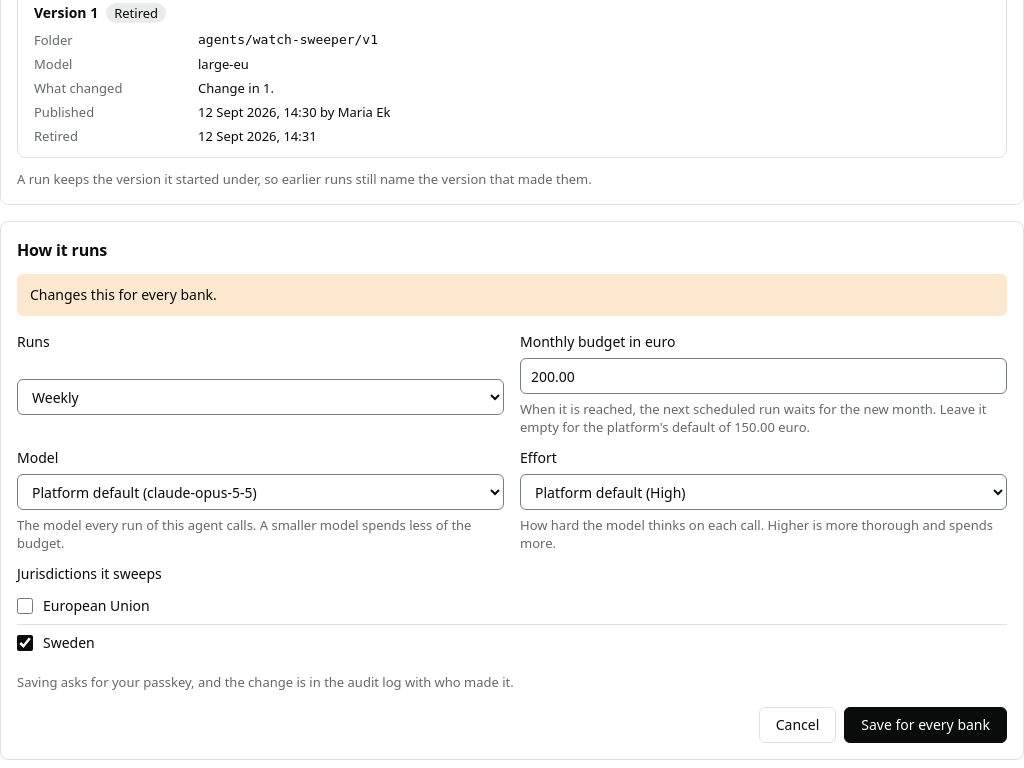
Test case: console agent definition › refuses settings with no jurisdiction or a budget that is not an amount, and sends nothing
(page scrolled)
Expected: the checkbox labelled "Sweden" is checked, [17, 635, 33, 651]
Replace the text in the field labelled "Monthly budget in euro" with "12,5" at (764, 376), box [520, 358, 1007, 394]
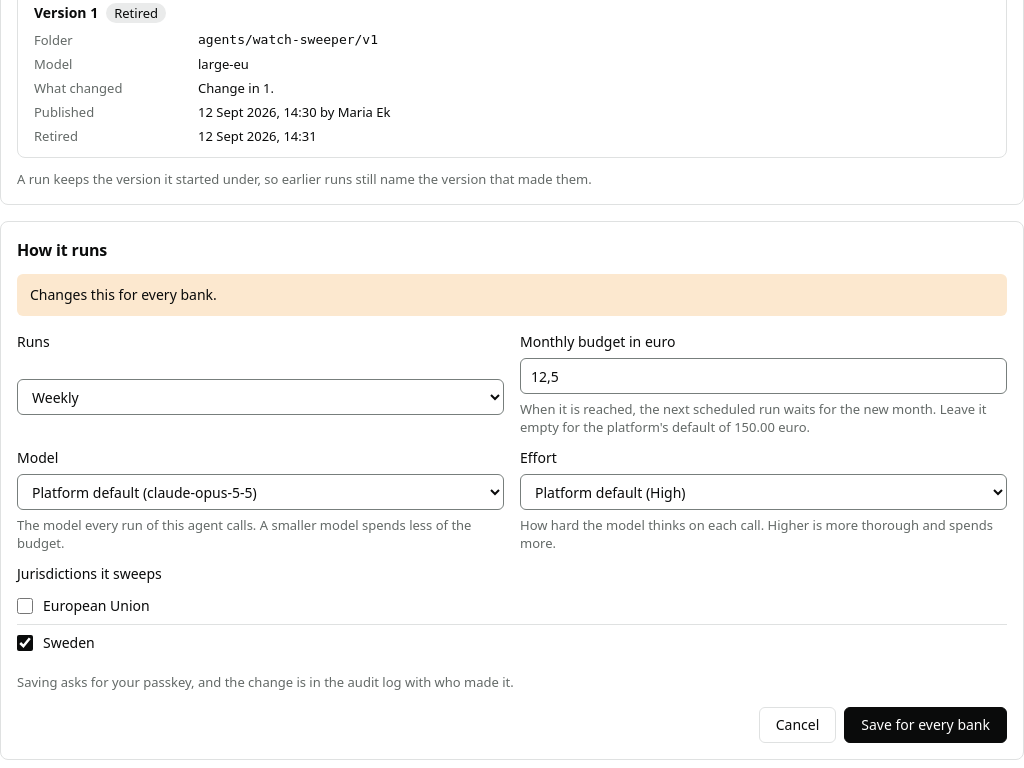
Click the button "Save for every bank".
click(926, 725)  # box [844, 707, 1007, 743]
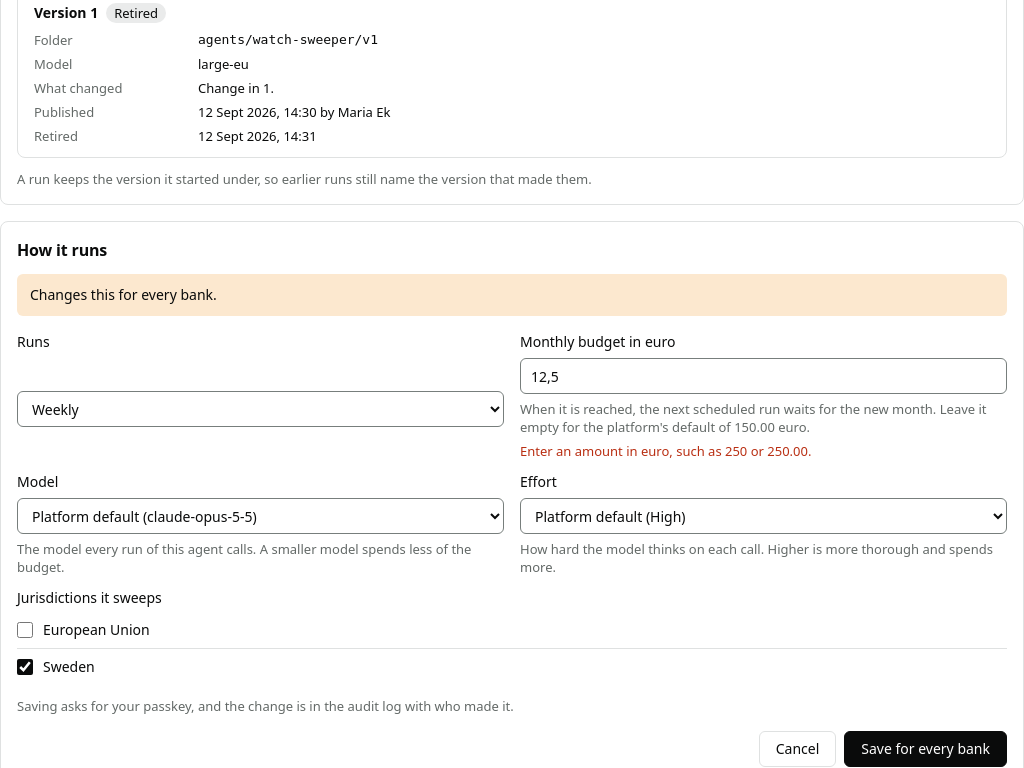
Expected: the text "Enter an amount in euro, such as 250 or 250.00." is shown, [520, 442, 811, 460]
Clear the field labelled "Monthly budget in euro" at (764, 376), box [520, 358, 1007, 394]
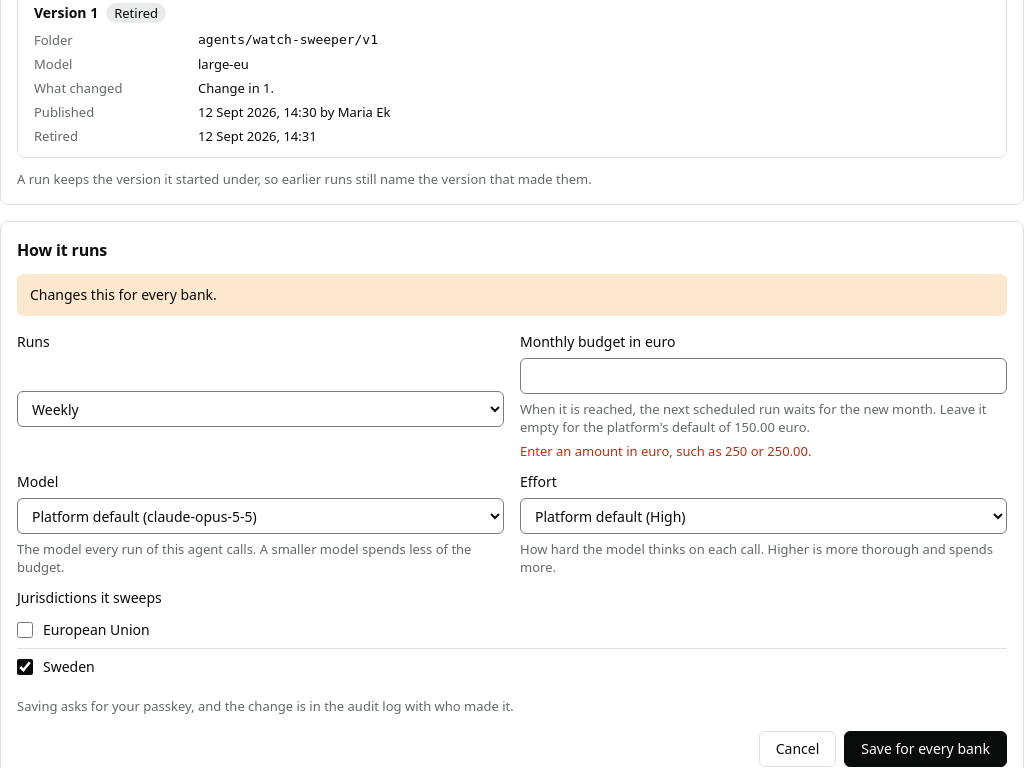
Click the checkbox labelled "Sweden".
click(25, 667)  # box [17, 659, 33, 675]
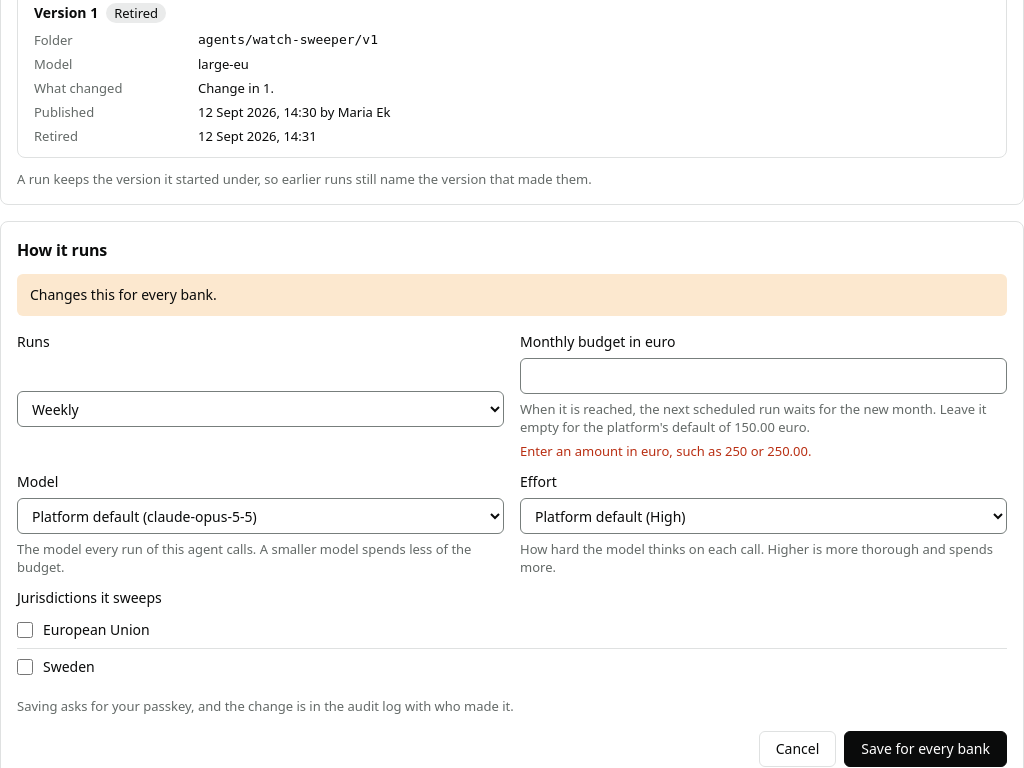
Click the button "Save for every bank".
click(926, 749)  # box [844, 731, 1007, 767]
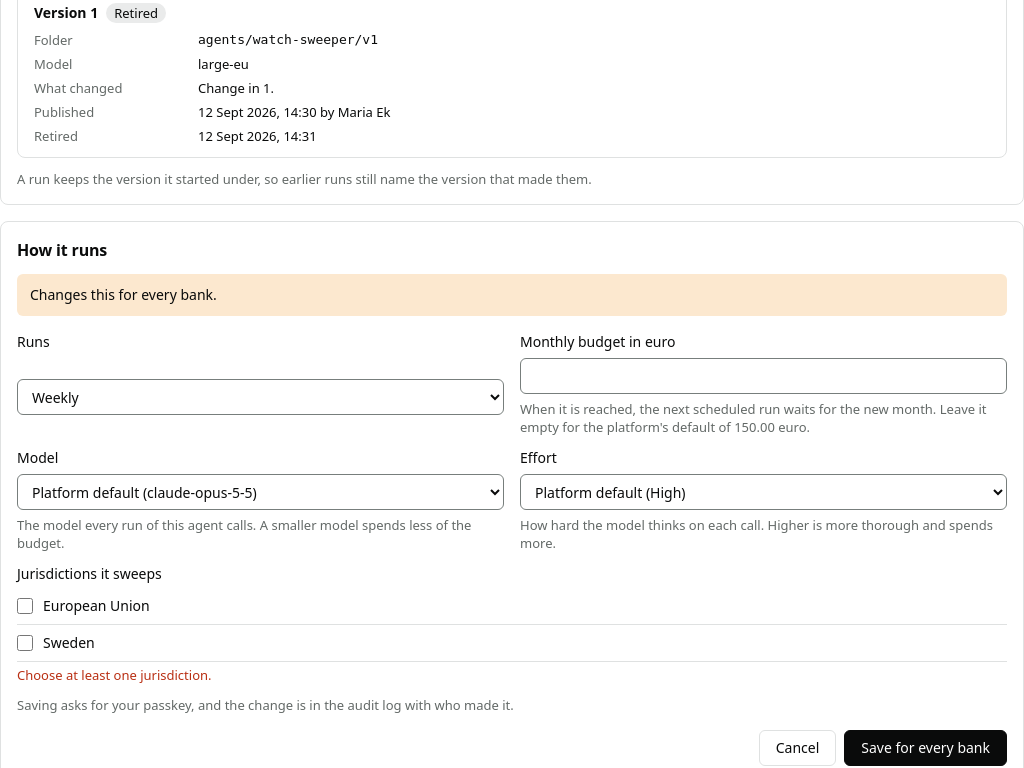
Expected: the text "Choose at least one jurisdiction." is shown, [17, 666, 212, 684]
Cancel puts back what is saved.
Click the button "Cancel".
click(798, 748)  # box [759, 730, 836, 766]
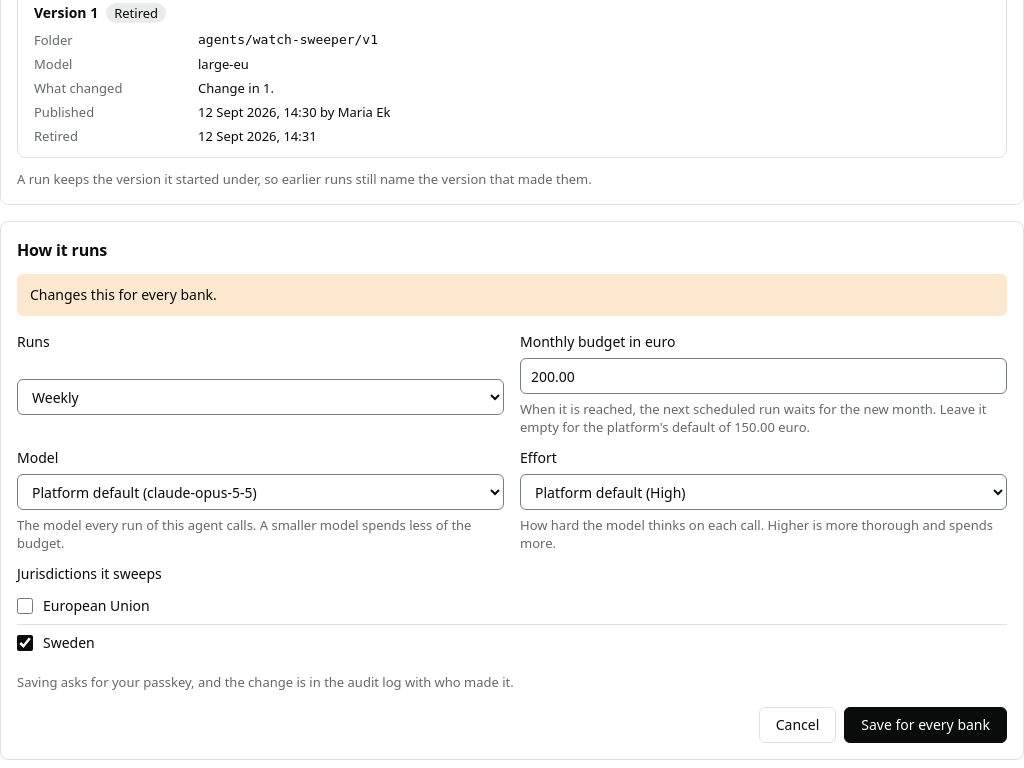
Expected: the checkbox labelled "Sweden" is checked, [17, 635, 33, 651]
Expected: the field labelled "Monthly budget in euro" holds "200.00", [520, 358, 1007, 394]
